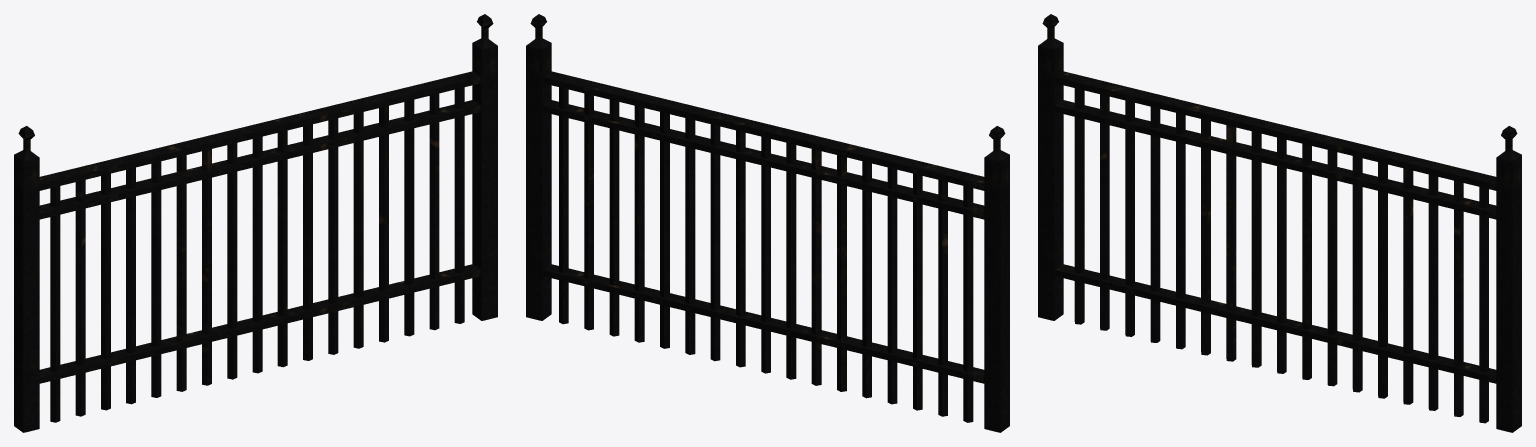
Rendered from Pole Fence 1.fbx.
The picture shows the model from 3 angles, left to right: view 1: azimuth 30°, elevation 25°; view 2: azimuth 150°, elevation 25°; view 3: azimuth 330°, elevation 25°; orthographic projection.
Parts seen in each view (by area): view 1: Pole Fence 1; view 2: Pole Fence 1; view 3: Pole Fence 1.
Boxes of the visible parts, x1,y1,x2,y2 form: Pole Fence 1: (14, 14, 497, 432); Pole Fence 1: (526, 14, 1009, 432); Pole Fence 1: (1038, 14, 1521, 432).
Bounding box in the file's own units: 309 × 188 × 10.56.
